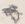microplastic: (2, 4, 23, 23)
